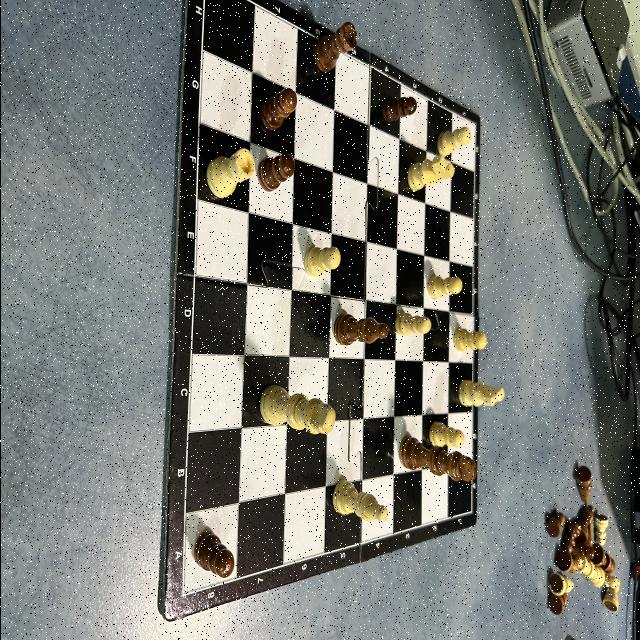Black-Bishop: (333, 314, 388, 346)
Black-King: (398, 436, 476, 482)
Black-Pawn: (193, 530, 233, 578), (258, 87, 296, 131), (256, 152, 295, 192), (380, 95, 416, 124)
Black-Rook: (313, 21, 357, 73)
White-Bishop: (331, 478, 387, 524)
White-King: (258, 384, 334, 436)
White-Knight: (406, 154, 454, 192), (456, 380, 504, 408)
White-Pawn: (302, 246, 340, 278), (436, 126, 470, 158), (428, 421, 464, 450), (452, 327, 487, 352), (426, 276, 462, 300), (394, 313, 430, 337)
White-Rook: (204, 147, 254, 199)
